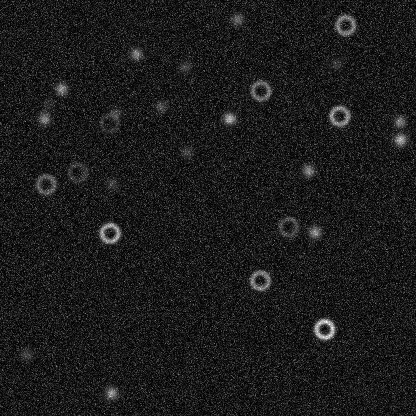Ring: (248, 78, 272, 102), (327, 103, 351, 127), (97, 220, 121, 244), (33, 172, 57, 196), (247, 268, 271, 292), (65, 160, 89, 184), (276, 214, 300, 238), (97, 111, 121, 135), (333, 12, 357, 36), (312, 317, 336, 341)
Spot: (221, 110, 237, 126), (306, 224, 322, 240), (103, 175, 119, 191), (152, 98, 168, 114), (176, 58, 192, 74), (127, 45, 143, 61), (328, 55, 344, 71), (107, 105, 123, 121), (178, 144, 194, 160), (53, 80, 69, 96), (18, 346, 34, 362), (300, 162, 316, 178), (103, 384, 119, 400), (392, 131, 408, 147), (36, 110, 52, 126), (39, 96, 55, 112), (229, 11, 245, 27), (391, 113, 407, 129)
